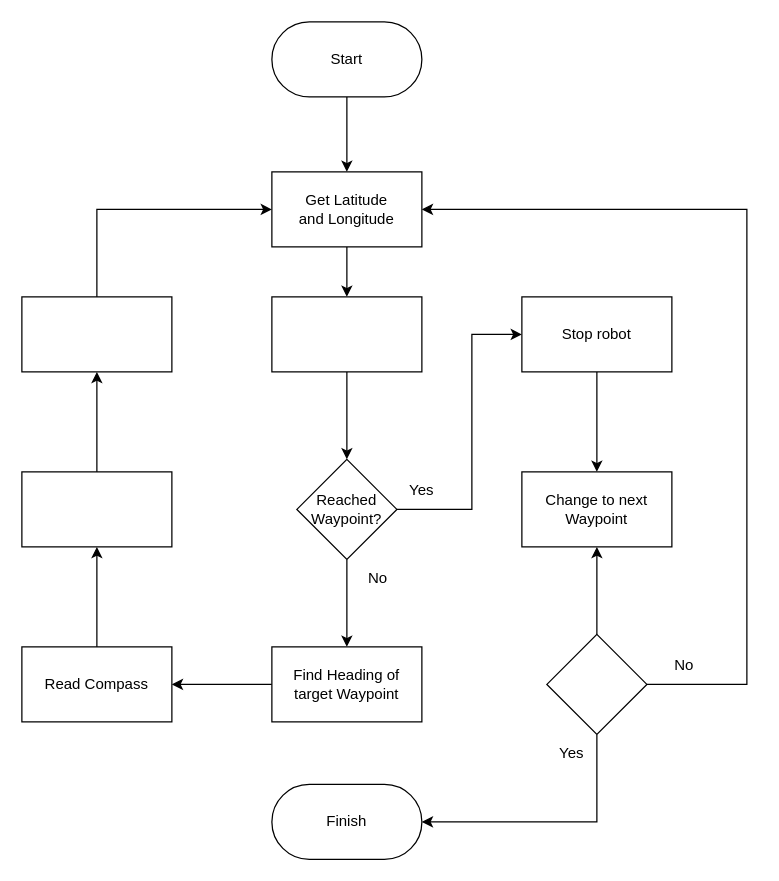
The diagram is 779 pixels wide and 881 high, and some of its shapes have lost their labels. The centre of each missing label's shape, as x and y in pixels:
"Calculate desired path" belongs at pixel 96 509.
"Find distance from target Waypoint" belongs at pixel 346 334.
"Finish ALL Waypoint?" belongs at pixel 596 683.
"Move robot based on calculations" belongs at pixel 96 334.
